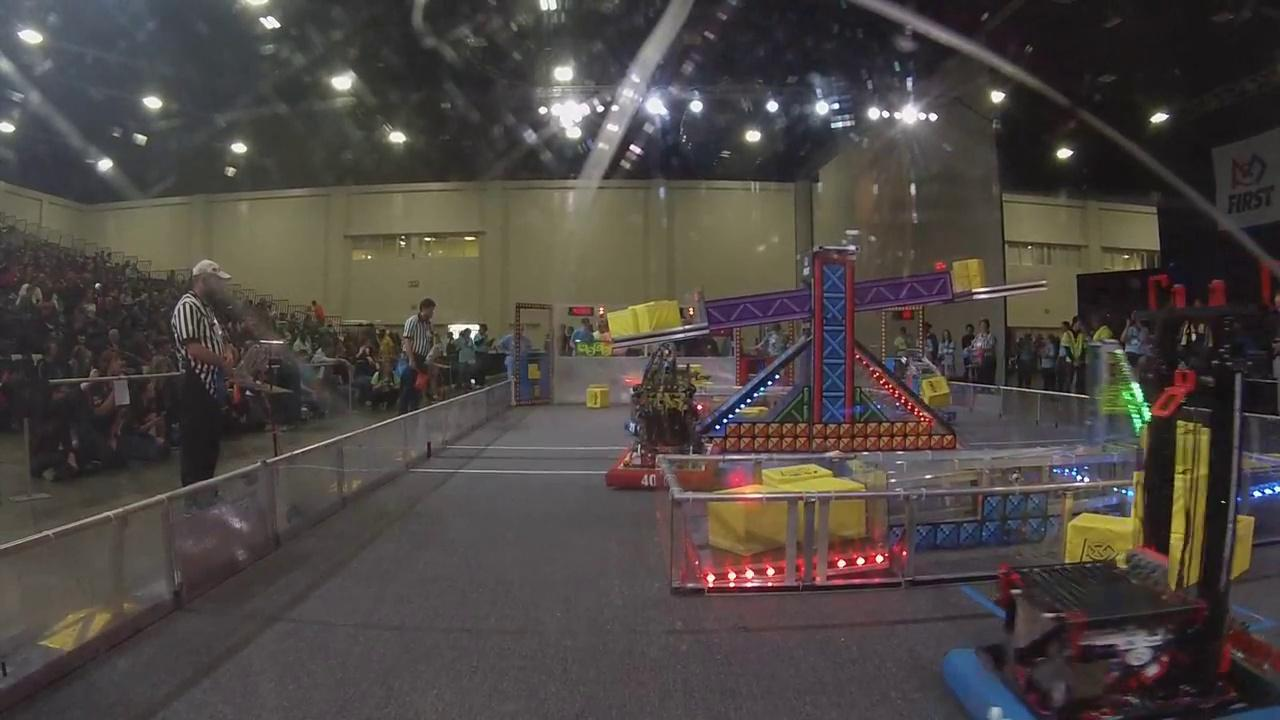robot: (929, 301, 1280, 720), (601, 368, 725, 492)
